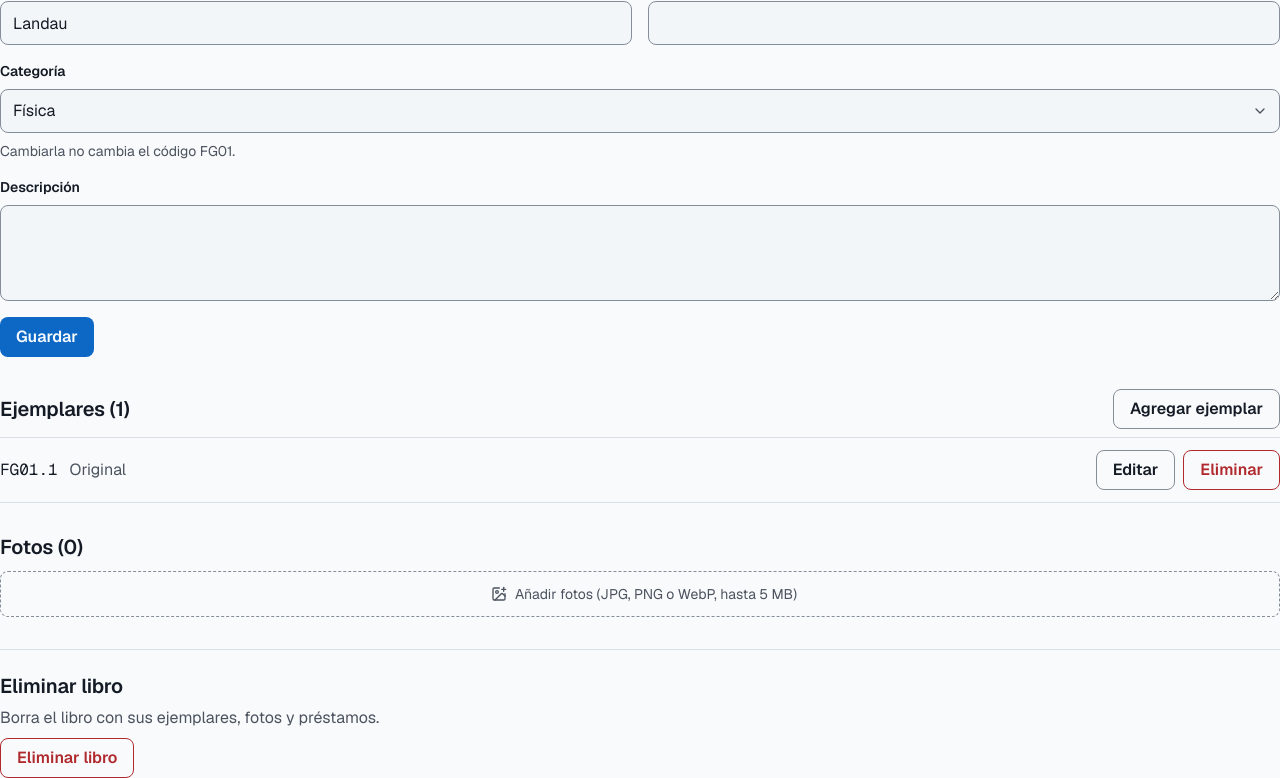
Scenario: BookEditor › shows a refused book deletion in the delete section and stays on the page
(page scrolled)
Click the button "Eliminar libro": (67, 758) [0, 738, 134, 777]
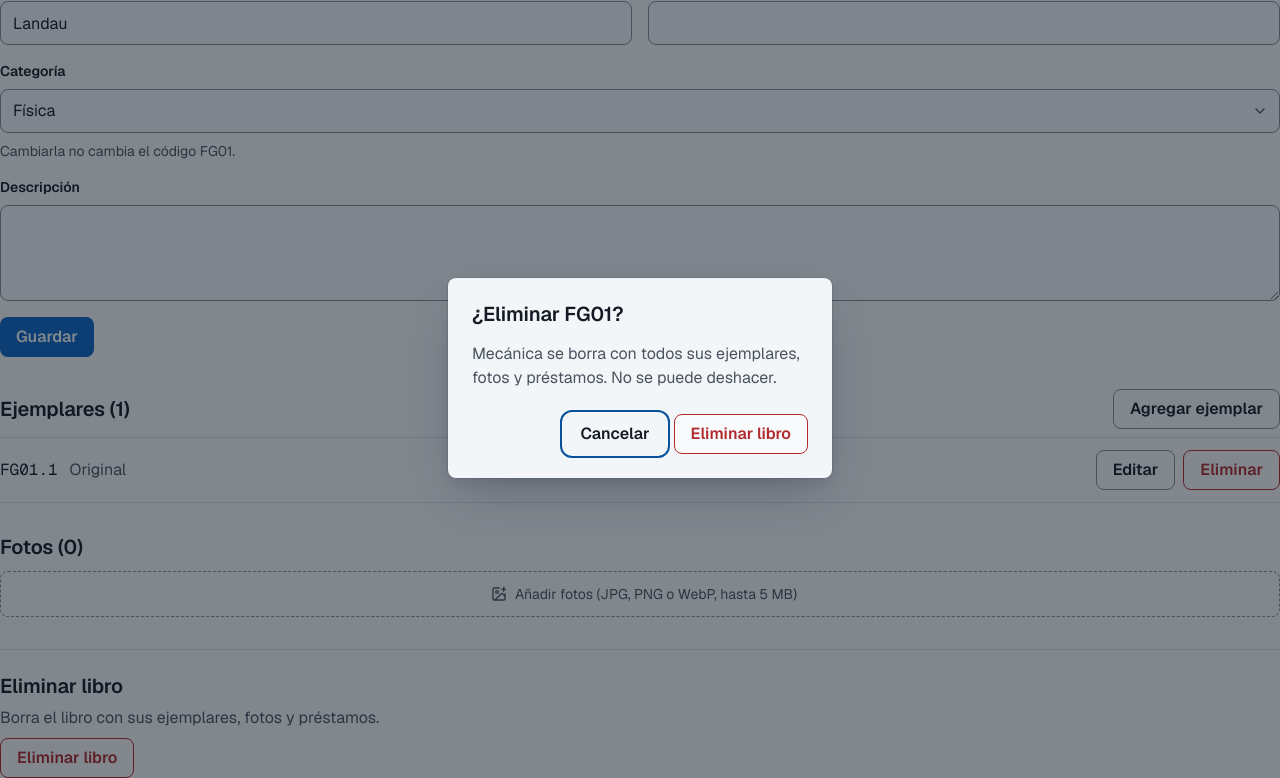
Click the button "Eliminar libro": (741, 434) [674, 414, 808, 454]
(page scrolled)
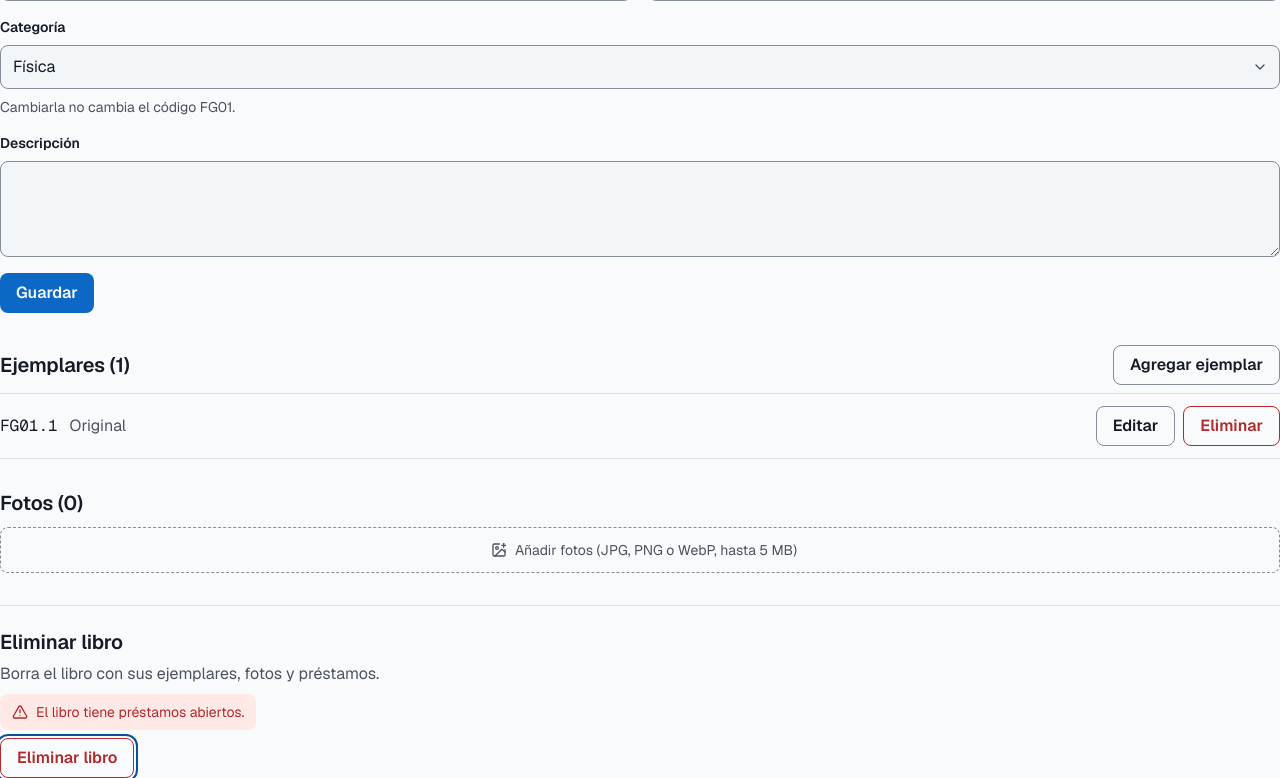
Now the message shows "El libro tiene préstamos", box [36, 703, 244, 721]
